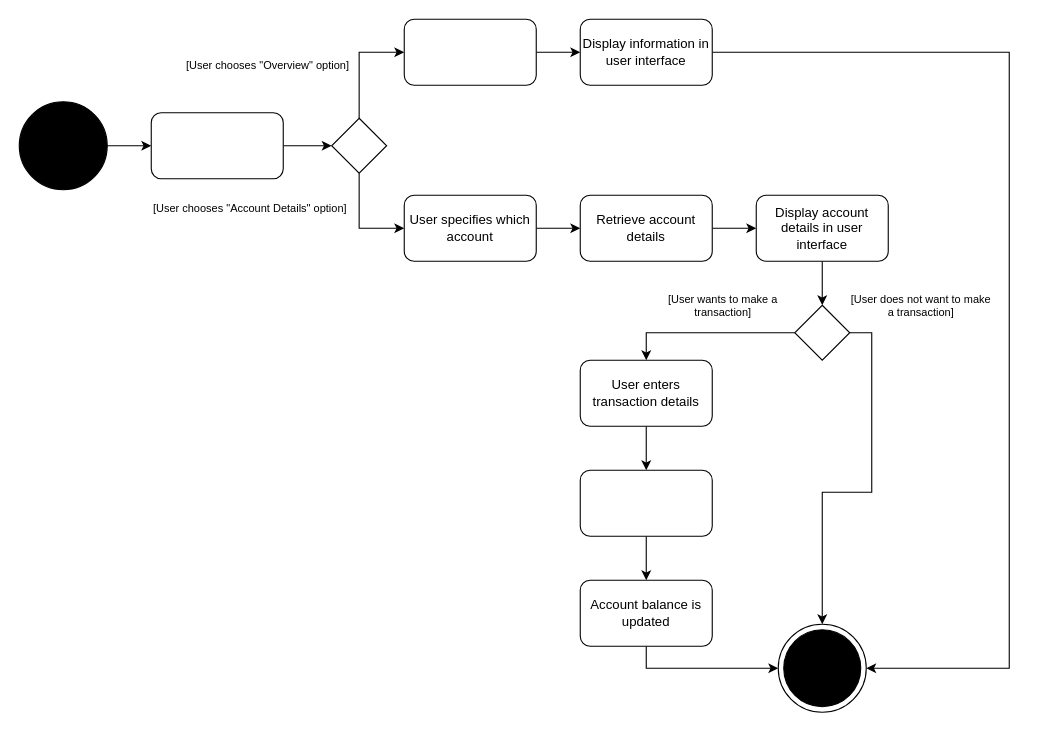
This 1037x732 diagram has some shape labels left out. The box of each missing label's shape, as (x1, y1, x2, y2) in pixels:
Retrieve information about balances of accounts: (403, 18, 536, 85)
Transaction is made: (579, 469, 712, 536)
User starts Banking Application: (150, 112, 283, 179)
